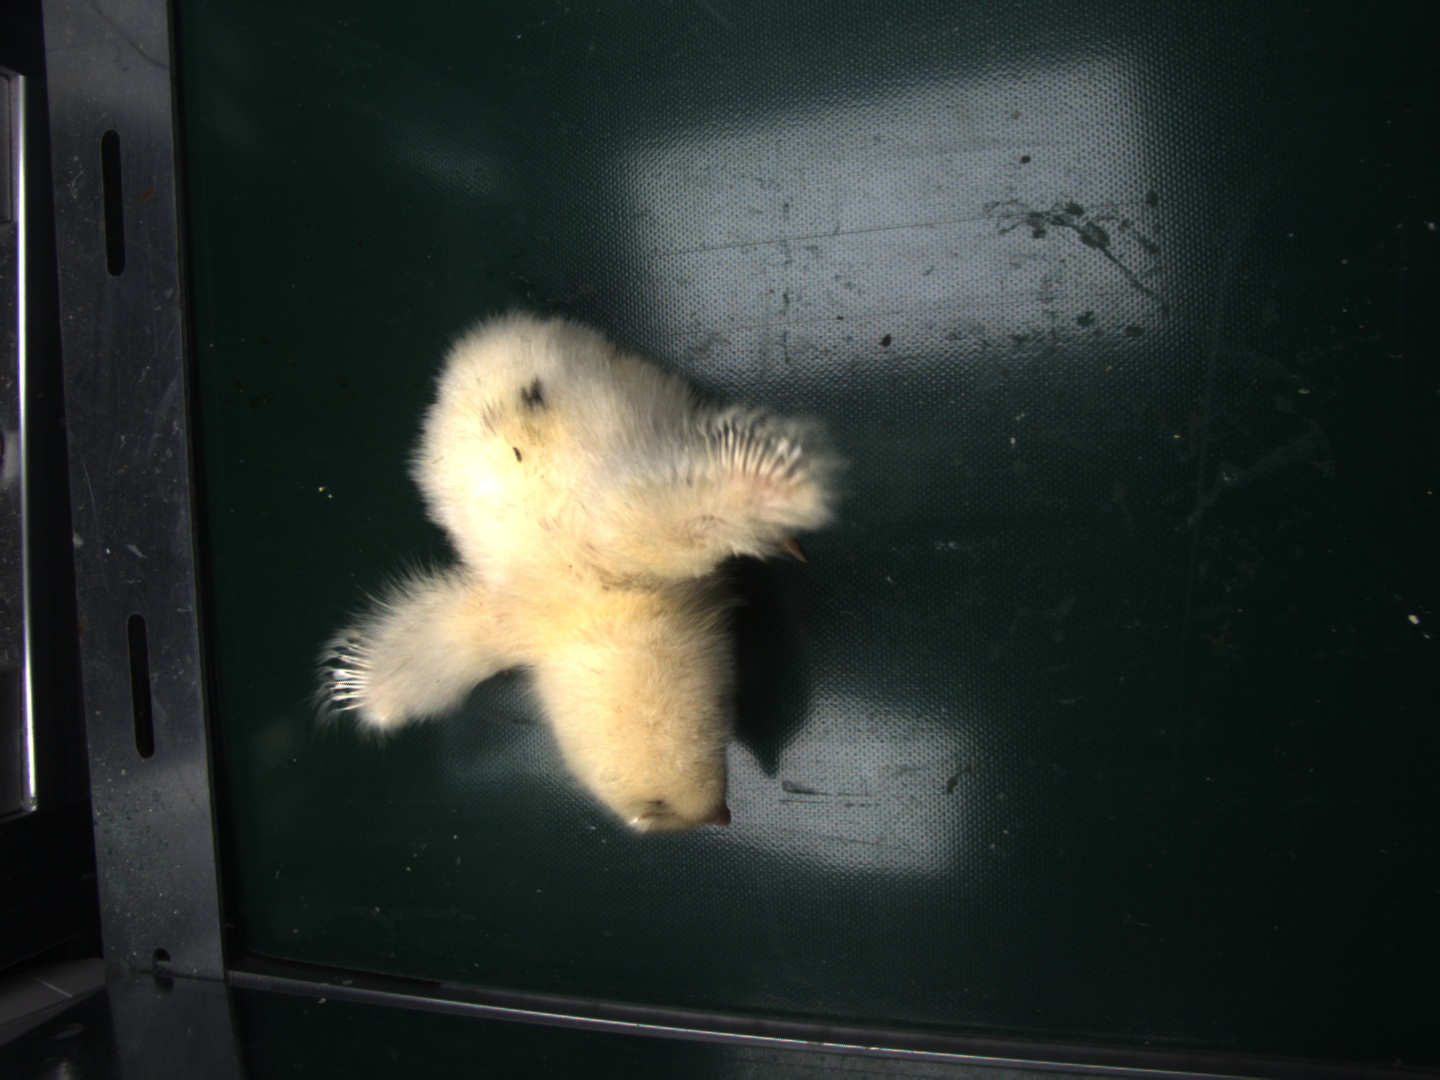male: (715, 422, 797, 480), (334, 633, 381, 711)
